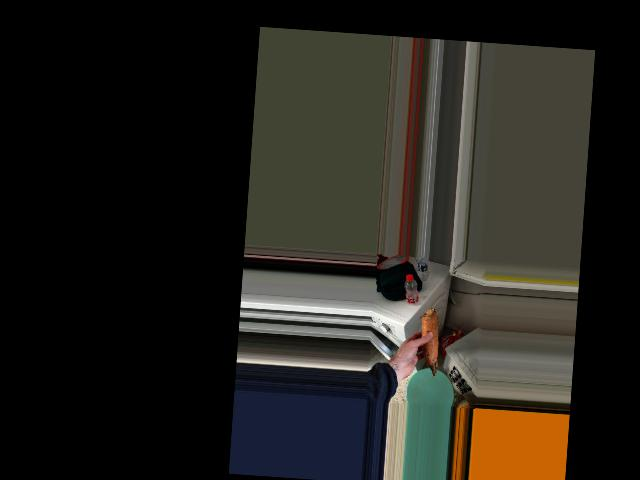sweet_potato: (418, 311, 440, 375)
